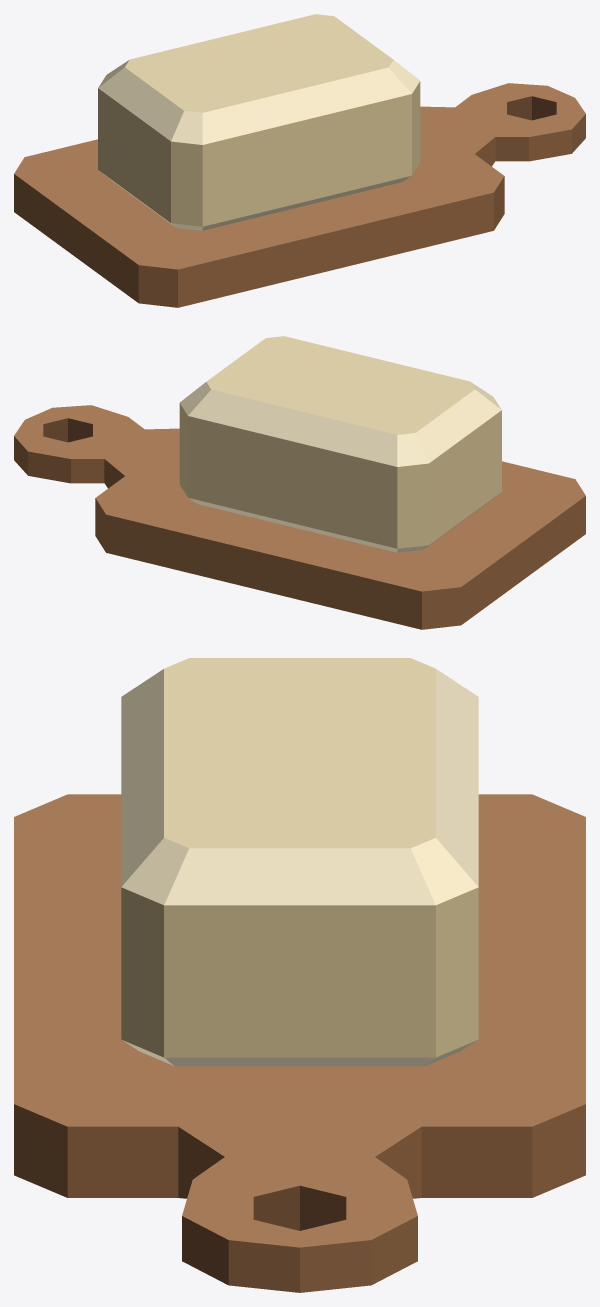
The model's file is FMS_Workshop_PRD_03.fbx.
The picture shows the model from 3 angles, top to bottom: view 1: azimuth 30°, elevation 25°; view 2: azimuth 150°, elevation 25°; view 3: azimuth 270°, elevation 25°; orthographic projection. The views are drawn at different scales.
Parts seen in each view (by area): view 1: FMS_Workshop_PRD_03_Body; view 2: FMS_Workshop_PRD_03_Body; view 3: FMS_Workshop_PRD_03_Body.
Part boxes in pixels (x1,y1,x2,y2): FMS_Workshop_PRD_03_Body: (14, 14, 585, 307); FMS_Workshop_PRD_03_Body: (14, 336, 585, 629); FMS_Workshop_PRD_03_Body: (14, 658, 585, 1292).
Size of the model in its own units: 0.3 by 0.086 by 0.16.
1 material, 1 textured.
